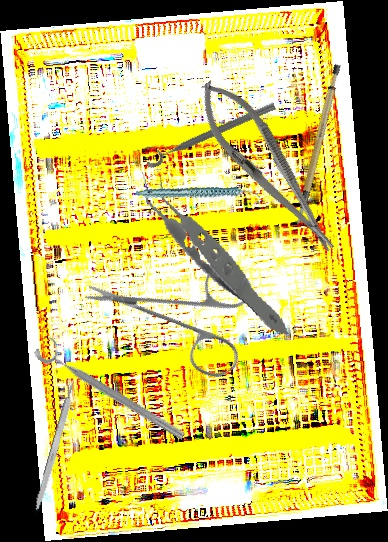Fixation Ring: (32, 332, 193, 445), (140, 91, 278, 170)
Handpiece: (134, 164, 262, 224)
Iris Scissors: (81, 212, 285, 416)
Needle Holder: (184, 68, 351, 266)
Scalpel Handle: (270, 62, 362, 228), (31, 378, 80, 517)
Tissue Forceps: (138, 144, 290, 358)
